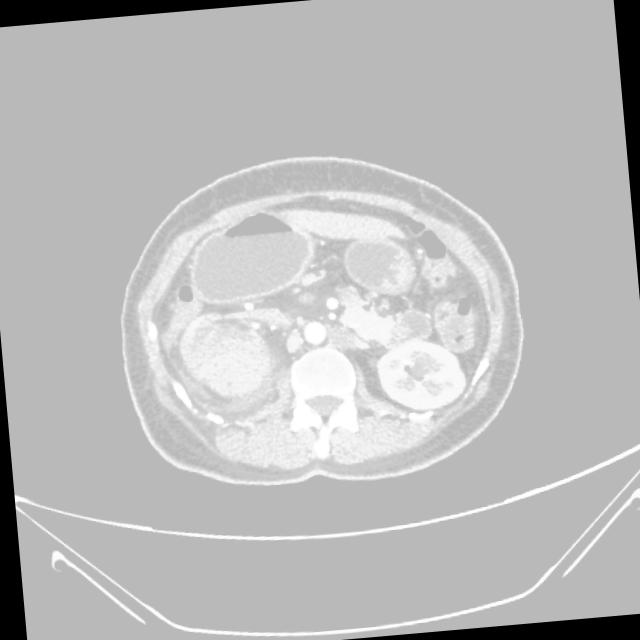TUMOR: (196, 159, 500, 390)
